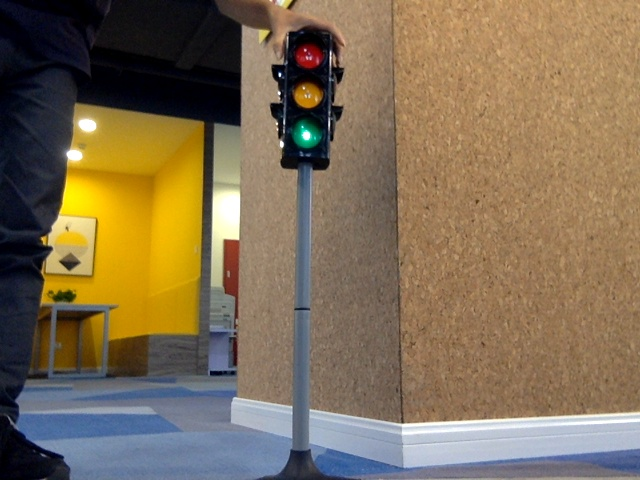green: (287, 40, 327, 148)
